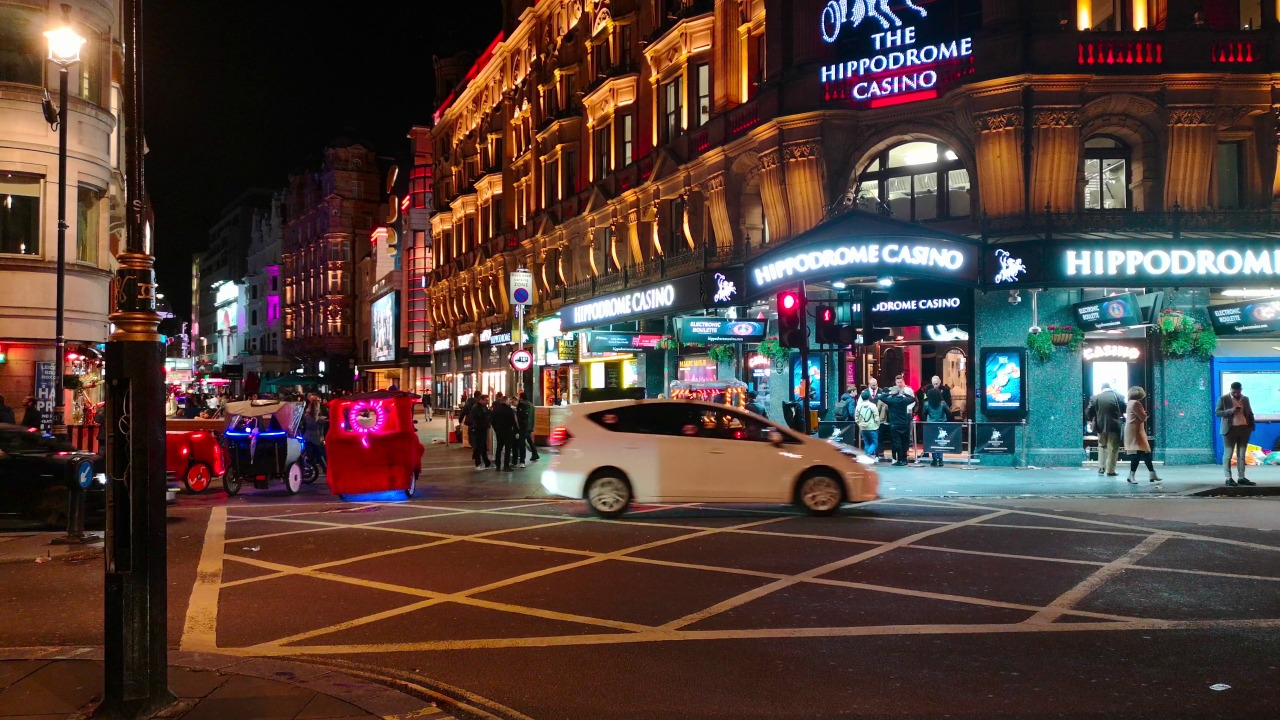car: (556, 410, 899, 516), (1, 434, 136, 538), (240, 404, 326, 498), (342, 406, 421, 505), (170, 421, 221, 493)
person: (1214, 377, 1254, 485), (1127, 383, 1159, 486), (1087, 384, 1121, 477), (923, 392, 955, 470), (490, 398, 519, 475), (516, 393, 538, 464), (477, 400, 487, 474), (881, 389, 911, 411), (745, 390, 771, 413), (417, 391, 439, 418), (855, 389, 876, 417), (925, 371, 950, 394), (834, 382, 849, 420), (18, 393, 37, 417), (890, 379, 909, 389)
